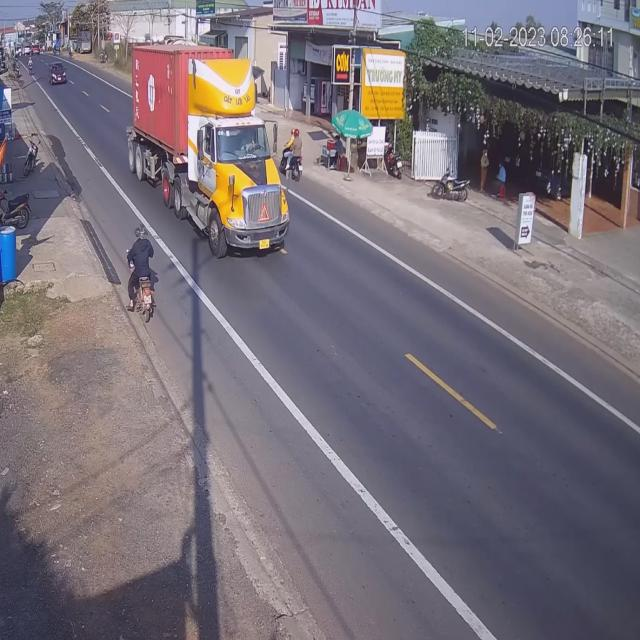car: (51, 60, 69, 85)
motorbike: (128, 228, 160, 324), (284, 130, 301, 182)
truck: (123, 44, 284, 255)
